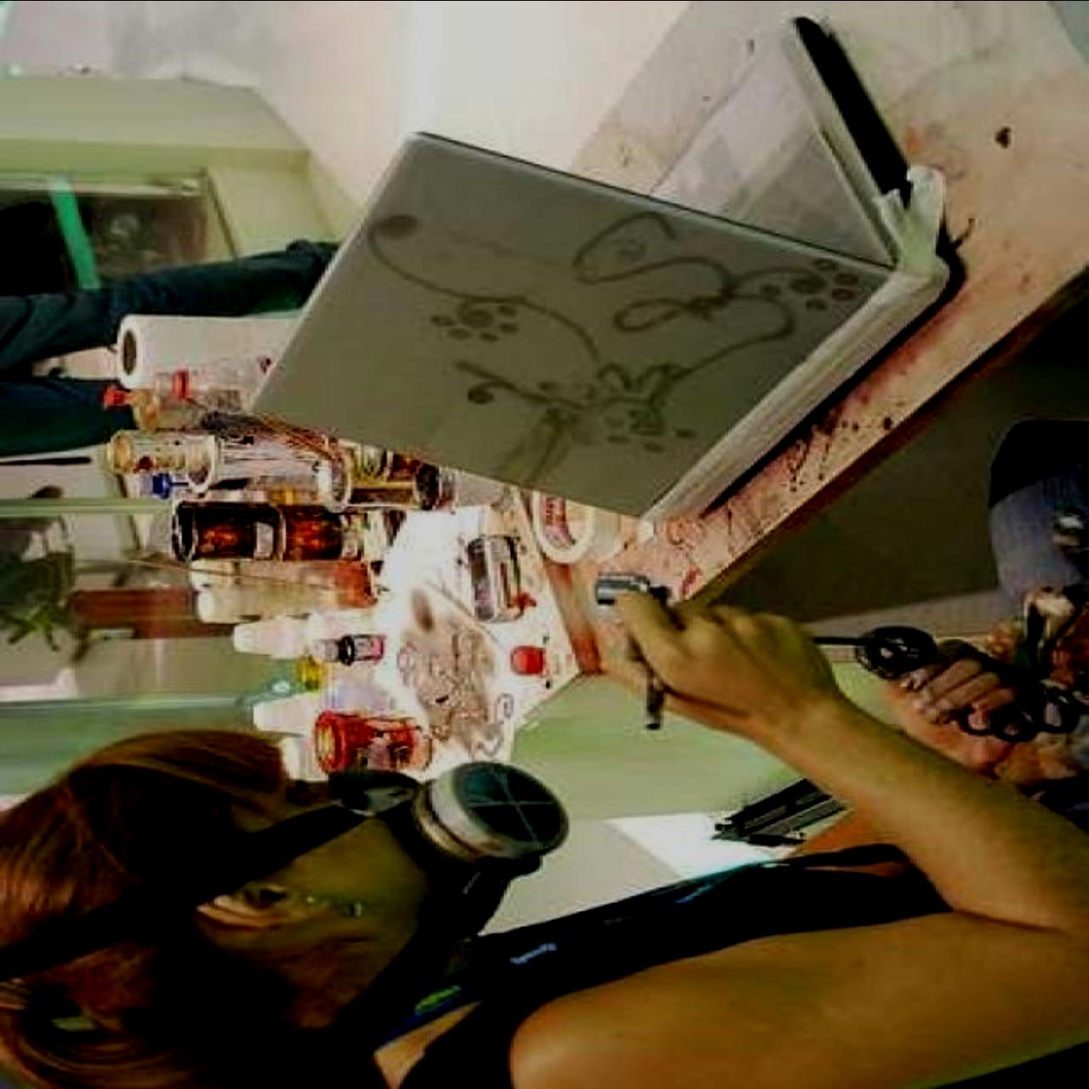laptop: (275, 32, 889, 451)
